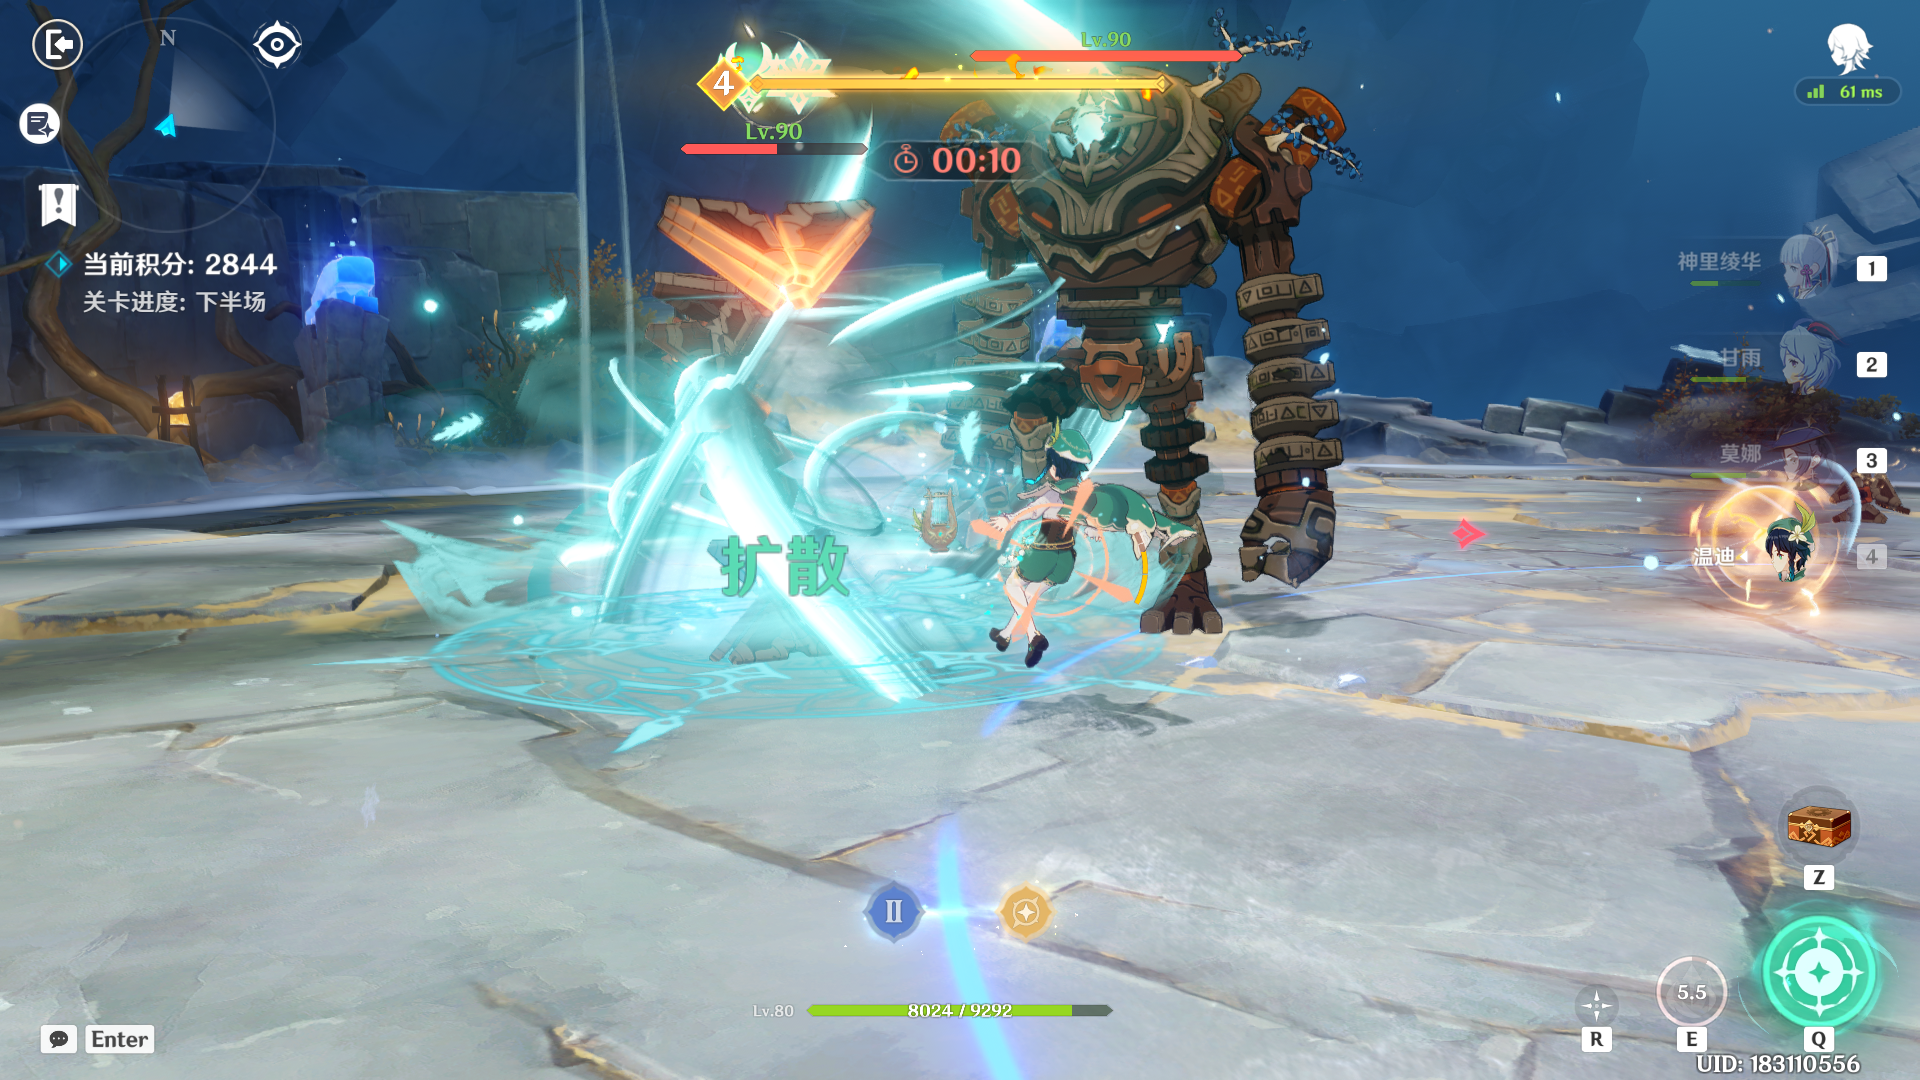character: (932, 413, 1208, 709)
